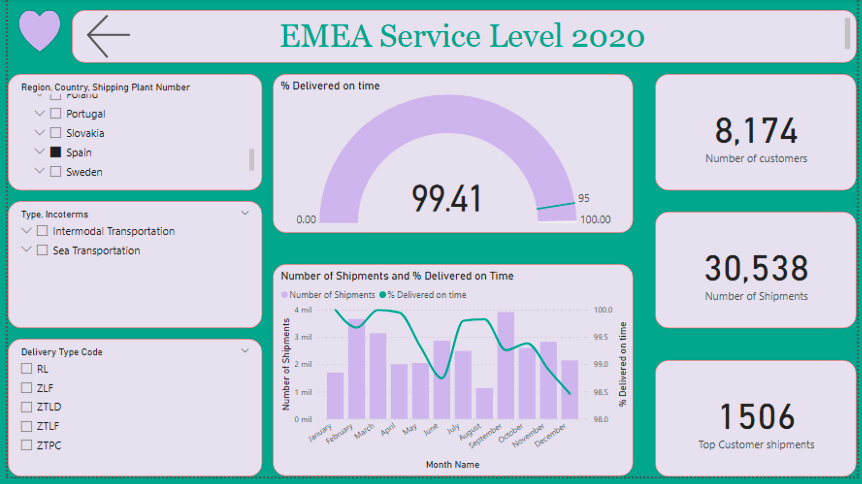

The dashboard page shown, as its layout file describes it:
{"tool":"powerbi","page":{"name":"EMEA Service Level 2020","canvas":[1280,720],"ordinal":0},"visuals":[{"type":"lineStackedColumnComboChart","title":"Number of Shipments and % Delivered on time per Month 2020","fields":{"Category":["DIM_Dates.Month Name"],"Y":["Count(FACT_Deliveries.Delivery Number)"],"Y2":["FACT_Deliveries.% Delivered on time"]},"box":[96,368,848,352],"z":0},{"type":"card","fields":{"Values":["Count(FACT_Deliveries.Delivery Number)"]},"box":[976,320,304,176],"z":1000},{"type":"card","fields":{"Values":["Count(FACT_Deliveries.Sold to Customer)"]},"box":[976,112,304,176],"z":2000},{"type":"gauge","fields":{"Y":["FACT_Deliveries.% Delivered on time"]},"box":[400,112,544,240],"z":3000},{"type":"card","fields":{"Values":["FACT_Deliveries.Top Customer"]},"box":[976,544,304,176],"z":4000},{"type":"textbox","box":[96,16,1184,80],"z":5000},{"type":"actionButton","box":[0,96,80,624],"z":6000},{"type":"textbox","box":[96,112,288,144],"z":12000},{"type":"textbox","box":[96,256,288,96],"z":13000},{"type":"actionButton","box":[880,368,64,48],"z":15000},{"type":"shape","box":[16,16,64,64],"z":17001}]}

Visuals, with their boxes in screenshot pixels (x1, y1, x2, y2), scaled from the page's 1280x720 canvas onto the 862x484 screenshot:
"Number of Shipments and % Delivered on time per Month 2020" lineStackedColumnComboChart: <region>65, 247, 636, 483</region>
card - Count(FACT_Deliveries.Delivery Number): <region>657, 215, 861, 333</region>
card - Count(FACT_Deliveries.Sold to Customer): <region>657, 75, 861, 194</region>
gauge - FACT_Deliveries.% Delivered on time: <region>269, 75, 636, 237</region>
card - FACT_Deliveries.Top Customer: <region>657, 366, 861, 483</region>
textbox: <region>65, 11, 861, 65</region>
actionButton: <region>0, 65, 54, 483</region>
textbox: <region>65, 75, 259, 172</region>
textbox: <region>65, 172, 259, 237</region>
actionButton: <region>593, 247, 636, 280</region>
shape: <region>11, 11, 54, 54</region>
